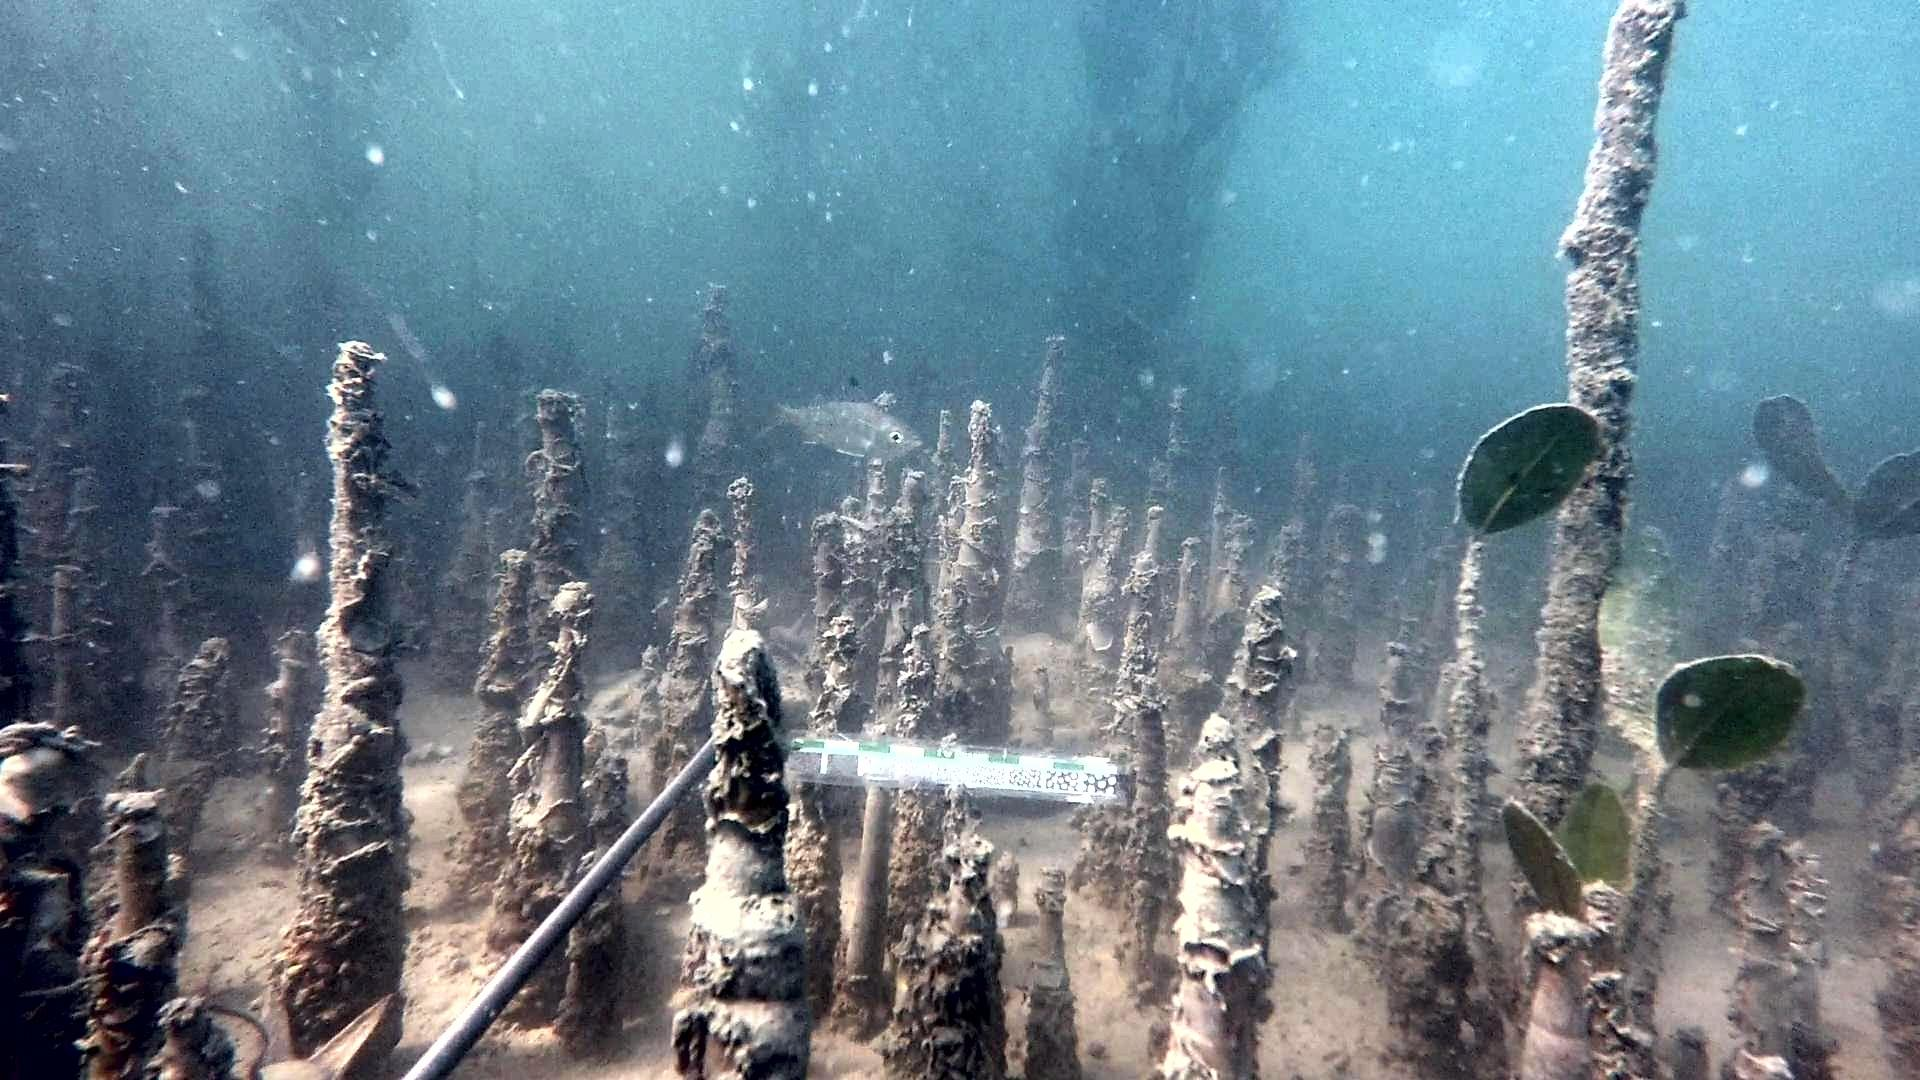gerres: (761, 376, 923, 464)
